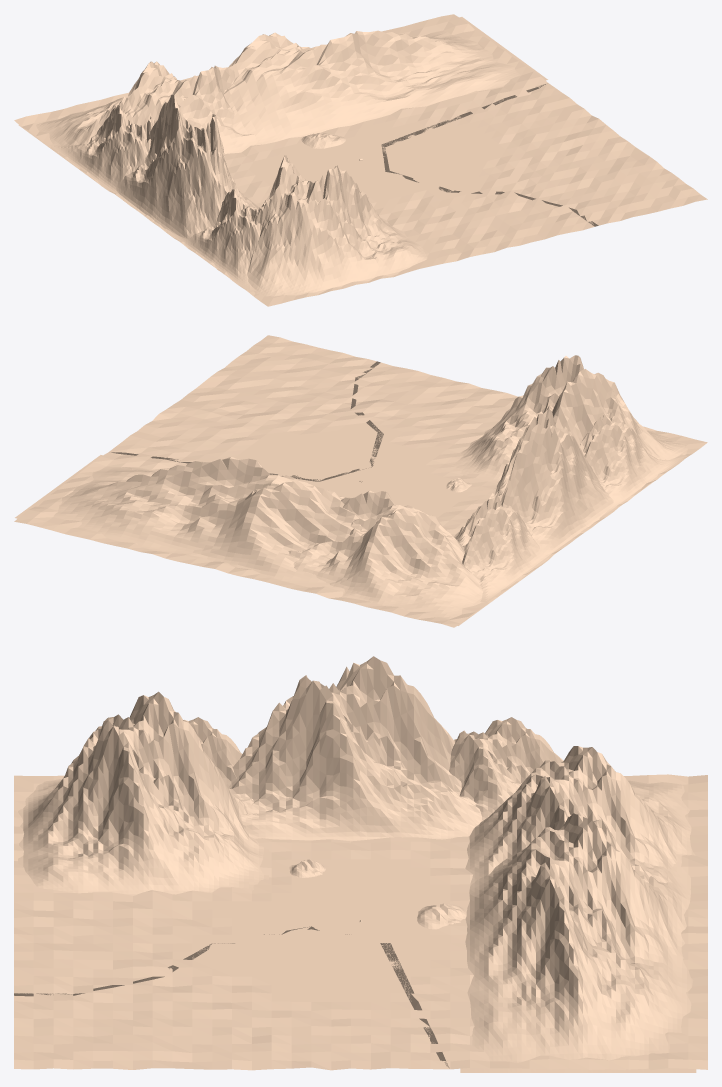
The picture shows the model from 3 angles, top to bottom: view 1: azimuth 30°, elevation 25°; view 2: azimuth 150°, elevation 25°; view 3: azimuth 270°, elevation 25°; orthographic projection. The views are drawn at different scales.
Visible parts, largest first — view 1: wüste, großer_berg_6, großer_berg, großer_berg_1, großer_berg_2, großer_berg_3, großer_berg_4, wüste_1, großer_berg_7; view 2: wüste, großer_berg_6, großer_berg_2, großer_berg_1, großer_berg, großer_berg_3, großer_berg_4, wüste_1; view 3: wüste, großer_berg_6, großer_berg, großer_berg_1, großer_berg_2, großer_berg_3, großer_berg_4, wüste_1, großer_berg_7.
Part boxes in pixels (<box>): wüste: <box>14,14,707,306</box>; großer_berg_6: <box>223,17,547,143</box>; großer_berg: <box>198,155,427,296</box>; großer_berg_1: <box>86,95,259,242</box>; großer_berg_2: <box>18,61,266,187</box>; großer_berg_3: <box>49,105,155,208</box>; großer_berg_4: <box>164,189,266,292</box>; wüste_1: <box>381,84,598,226</box>; großer_berg_7: <box>301,133,345,148</box>; wüste: <box>14,335,707,627</box>; großer_berg_6: <box>15,455,365,593</box>; großer_berg_2: <box>288,490,544,625</box>; großer_berg_1: <box>454,409,621,574</box>; großer_berg: <box>449,355,687,494</box>; großer_berg_3: <box>455,496,572,602</box>; großer_berg_4: <box>580,412,687,518</box>; wüste_1: <box>111,361,383,481</box>; wüste: <box>14,774,707,1070</box>; großer_berg_6: <box>460,813,696,1072</box>; großer_berg: <box>18,691,268,895</box>; großer_berg_1: <box>228,656,481,841</box>; großer_berg_2: <box>465,746,695,885</box>; großer_berg_3: <box>449,717,563,821</box>; großer_berg_4: <box>183,717,254,807</box>; wüste_1: <box>14,926,449,1068</box>; großer_berg_7: <box>417,903,466,929</box>.
Bounding box in the file's own units: 100879 × 23328 × 100000.
